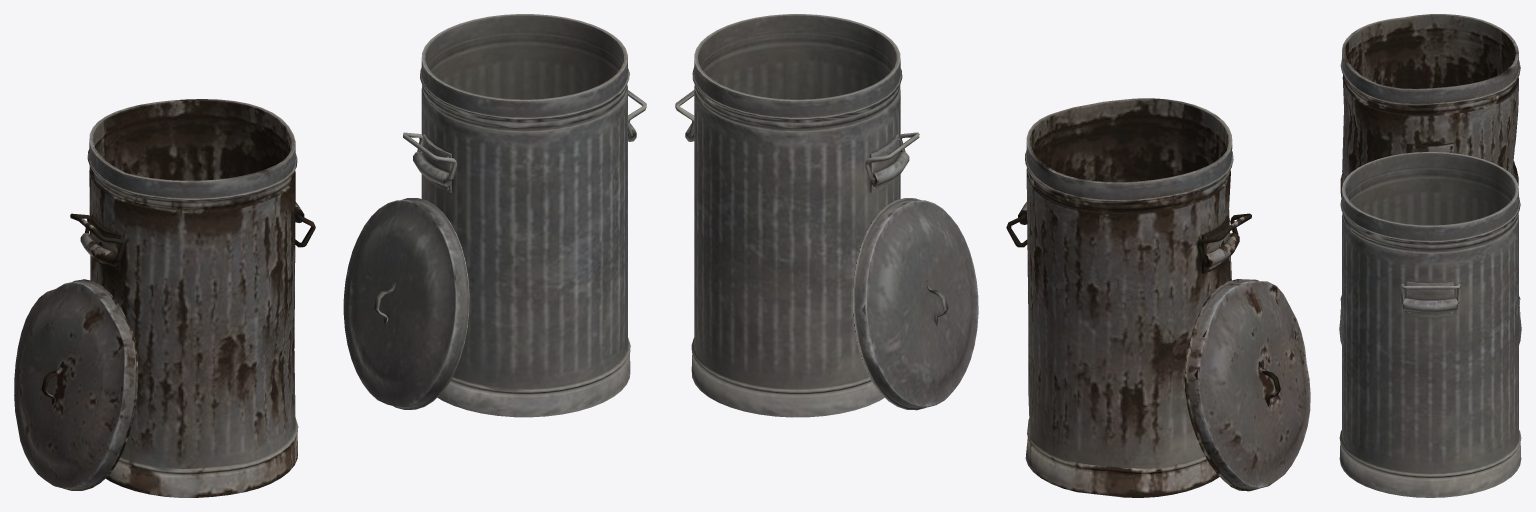
The model's file is trash_can.glb.
3 views of the same model, side by side, from view 1: azimuth 30°, elevation 25°; view 2: azimuth 150°, elevation 25°; view 3: azimuth 270°, elevation 25° (orthographic). The views are drawn at different scales.
Size of the model in its own units: 1.78 by 0.9062 by 0.5543.
Materials: 2 (2 with a texture image).
